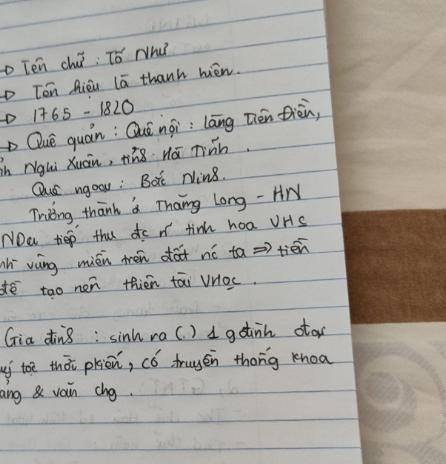text: (26, 95, 322, 152), (0, 234, 311, 278), (0, 210, 309, 253), (28, 180, 302, 227), (0, 345, 336, 382), (2, 314, 328, 350), (0, 134, 231, 179), (31, 58, 241, 102), (0, 266, 244, 302), (30, 163, 226, 200), (19, 40, 170, 78), (31, 94, 136, 126), (0, 380, 118, 407)
